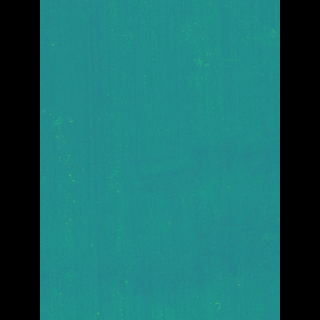Loch: (125, 115, 249, 320), (69, 98, 127, 199)
